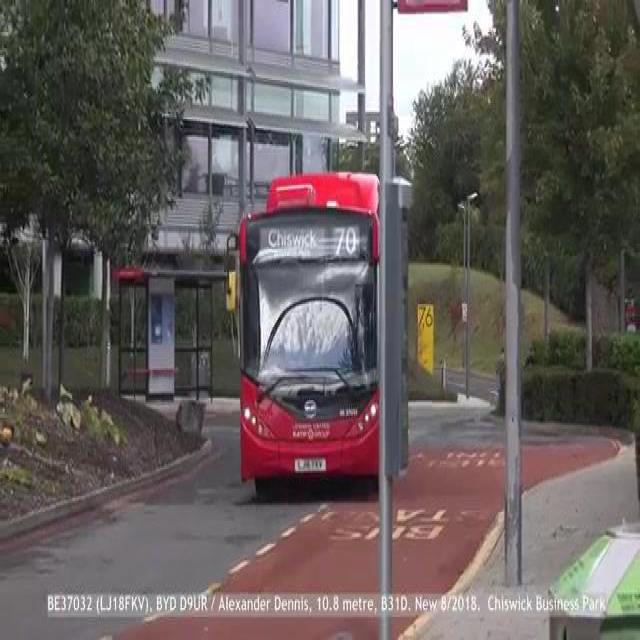motorcycle: (227, 182, 398, 486)
